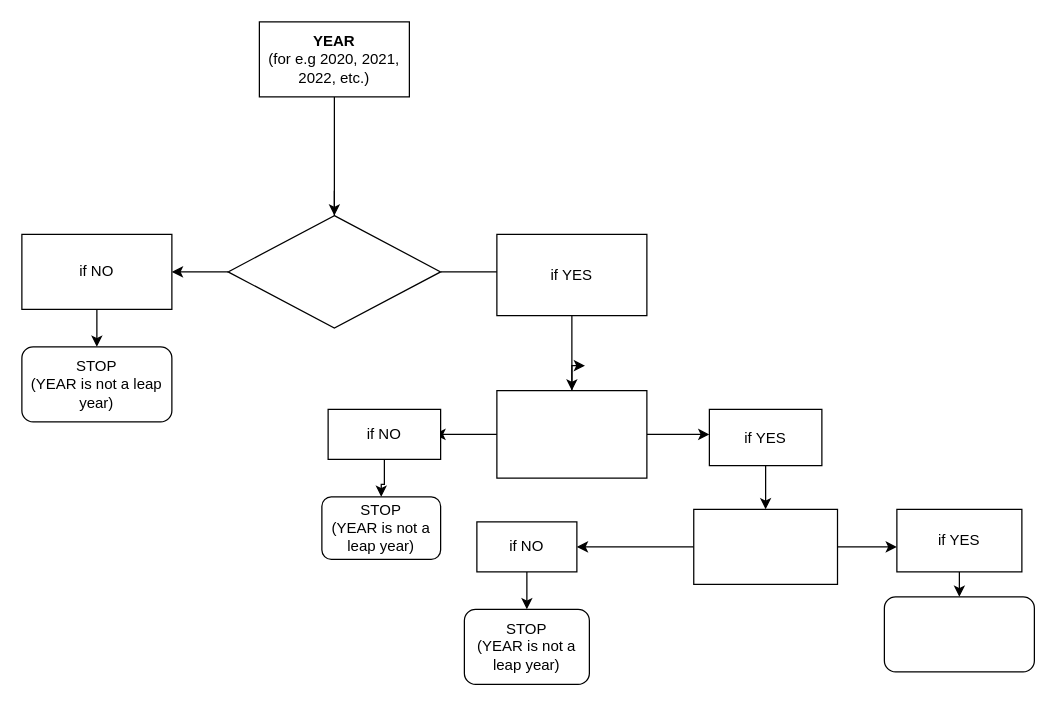
The diagram is 1056 pixels wide and 706 high, and some of its shapes have lost their labels. The box of each missing label's shape, as (x1, y1, x2, y2) in pixels:
check if YEAR is divisible by 100: (496, 389, 647, 478)
check if YEAR is divisible by 400: (692, 508, 838, 584)
END (The YEAR is a leap year): (883, 596, 1034, 672)
YEAR is divisible by 4: (227, 214, 441, 328)
